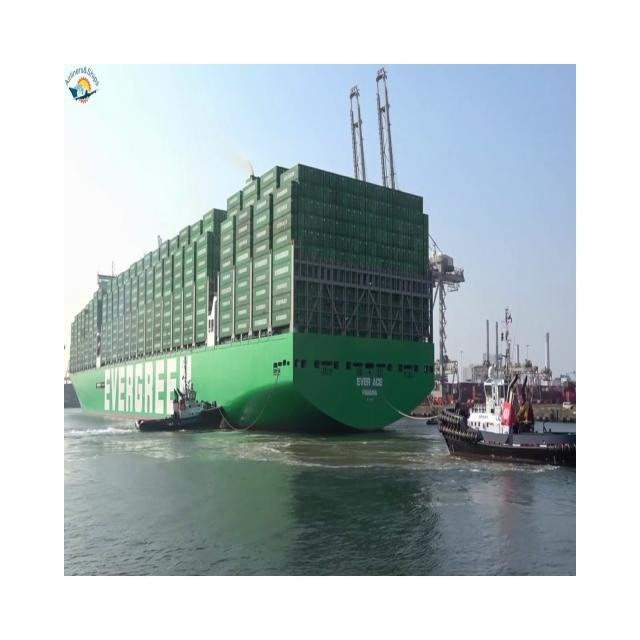OCR: (95, 351, 202, 428), (355, 368, 384, 412)
